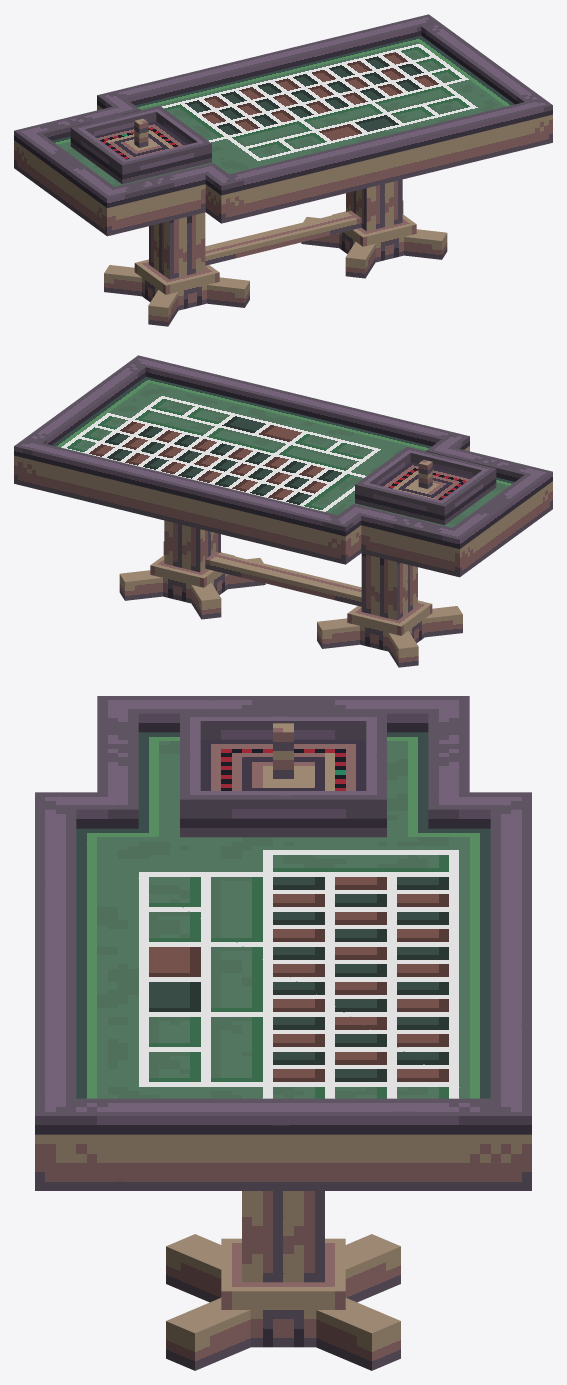
File: table_roulette.gltf
3 views of the same model, one above another, from view 1: azimuth 30°, elevation 25°; view 2: azimuth 150°, elevation 25°; view 3: azimuth 270°, elevation 25° (orthographic). The views are drawn at different scales.
Parts seen in each view (by area): view 1: cube (×27); view 2: cube (×27); view 3: cube (×22).
Part boxes in pixels (x1,y1,x2,y2): cube (×27): [14, 14, 552, 326]; cube (×27): [14, 355, 552, 667]; cube (×22): [35, 696, 531, 1370].
Size of the model in its own units: 3 by 1.22 by 1.5.
1 material, 1 textured.
